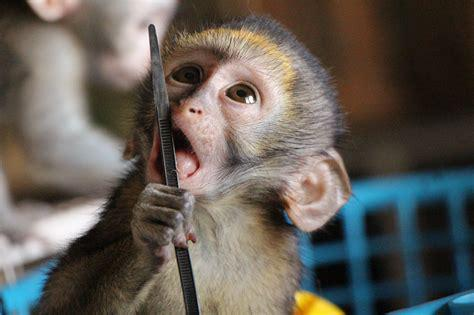monkey: (34, 15, 350, 315)
